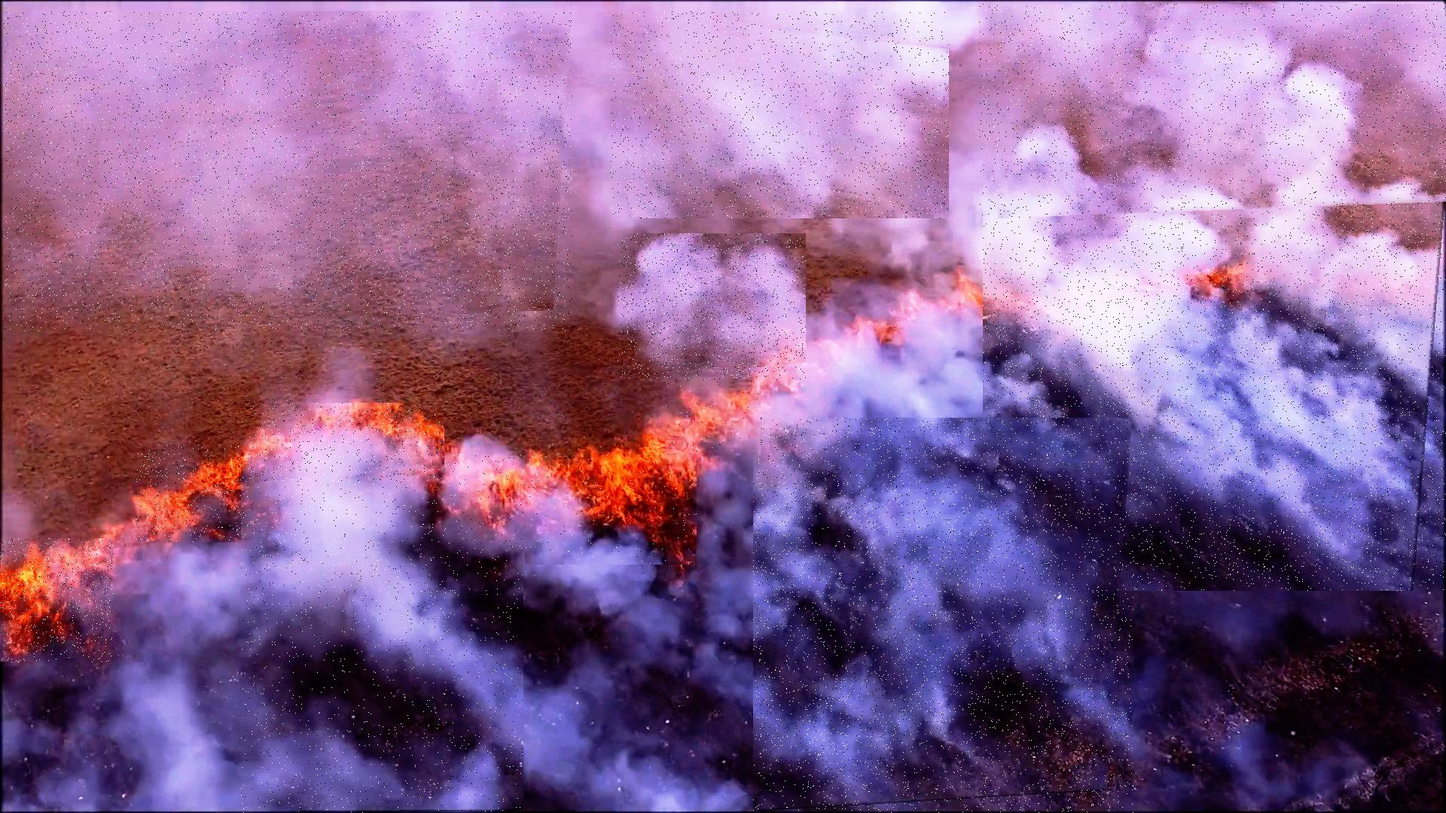fire: (516, 444, 697, 565), (249, 403, 444, 482), (0, 538, 113, 662), (136, 444, 241, 542), (659, 380, 761, 455)
smoke: (983, 147, 1446, 591), (4, 11, 572, 331), (753, 418, 1133, 813), (241, 455, 523, 813), (979, 4, 1446, 218), (610, 11, 949, 218), (618, 233, 806, 380)
